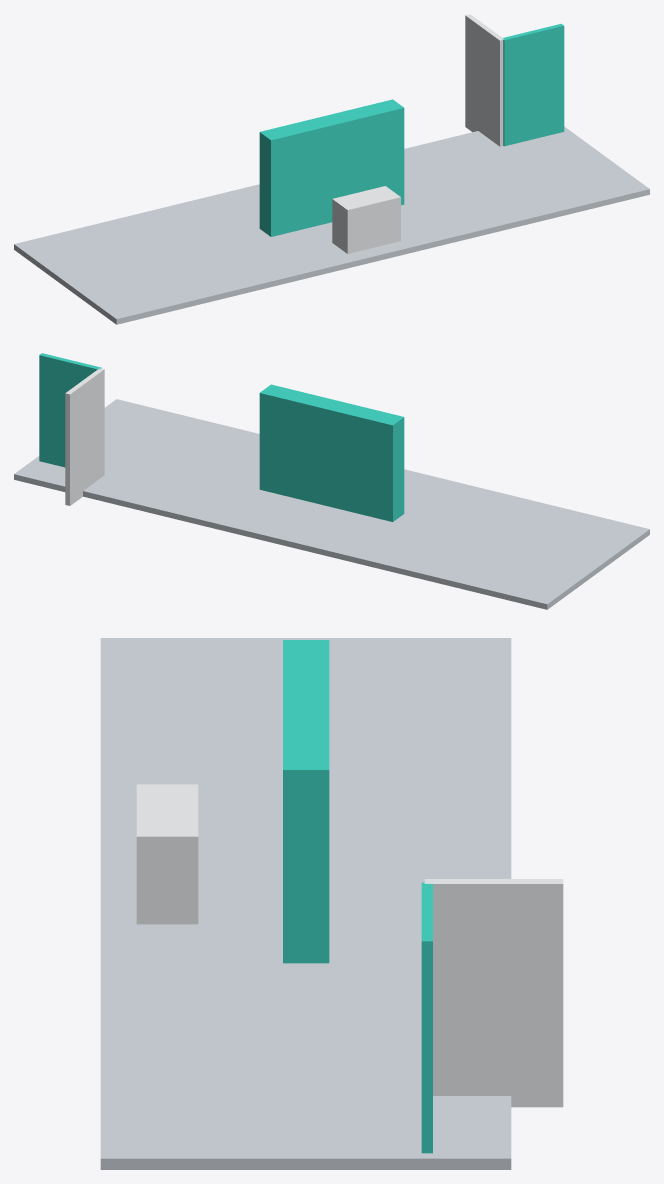
3 renders of one model, top to bottom at view 1: azimuth 30°, elevation 25°; view 2: azimuth 150°, elevation 25°; view 3: azimuth 270°, elevation 25°, orthographic. The views are drawn at different scales.
Parts seen in each view (by area): view 1: Exhibition Booth Concept; view 2: Exhibition Booth Concept; view 3: Exhibition Booth Concept.
Boxes of the visible parts, x1=… form: Exhibition Booth Concept: x1=14, y1=14, x2=649, y2=324; Exhibition Booth Concept: x1=14, y1=353, x2=649, y2=609; Exhibition Booth Concept: x1=100, y1=638, x2=563, y2=1169.
Size of the model in its own units: 12 by 2.4 by 4.51.
